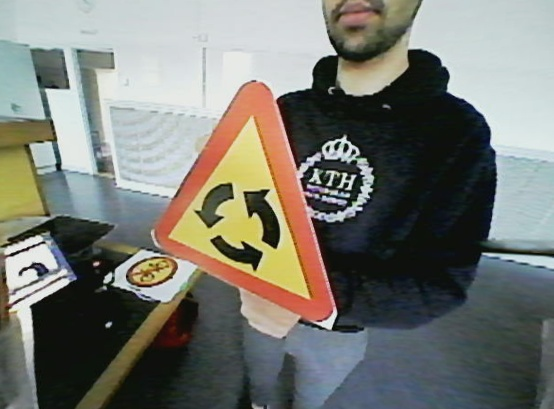roundabout_warning: (150, 81, 338, 335)
